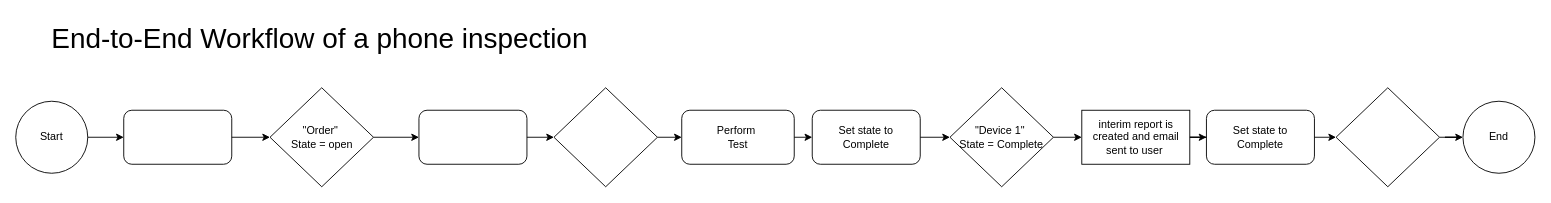
The diagram is 1551 pixels wide and 203 high, and some of its shapes have lost their labels. Here are the shapes that lost their labels. From the top down, the centre of each, then its label:
point 177,136: New Order
point 472,136: Add New Device
point 605,137: "Device 1" State = open
point 1387,137: "Order" State = complete
